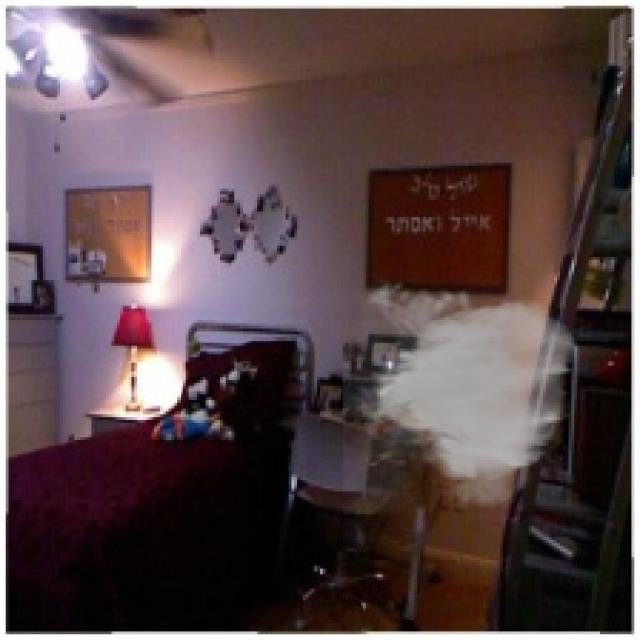smoke: (343, 274, 583, 514)
